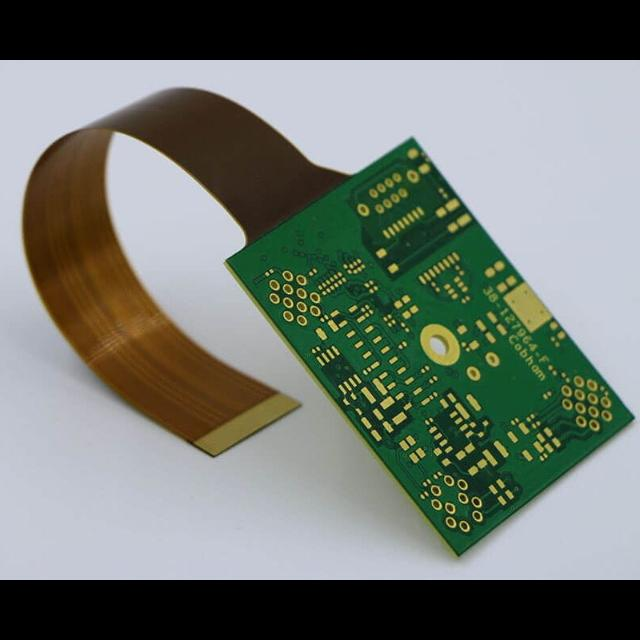PCB: (22, 87, 636, 558)
